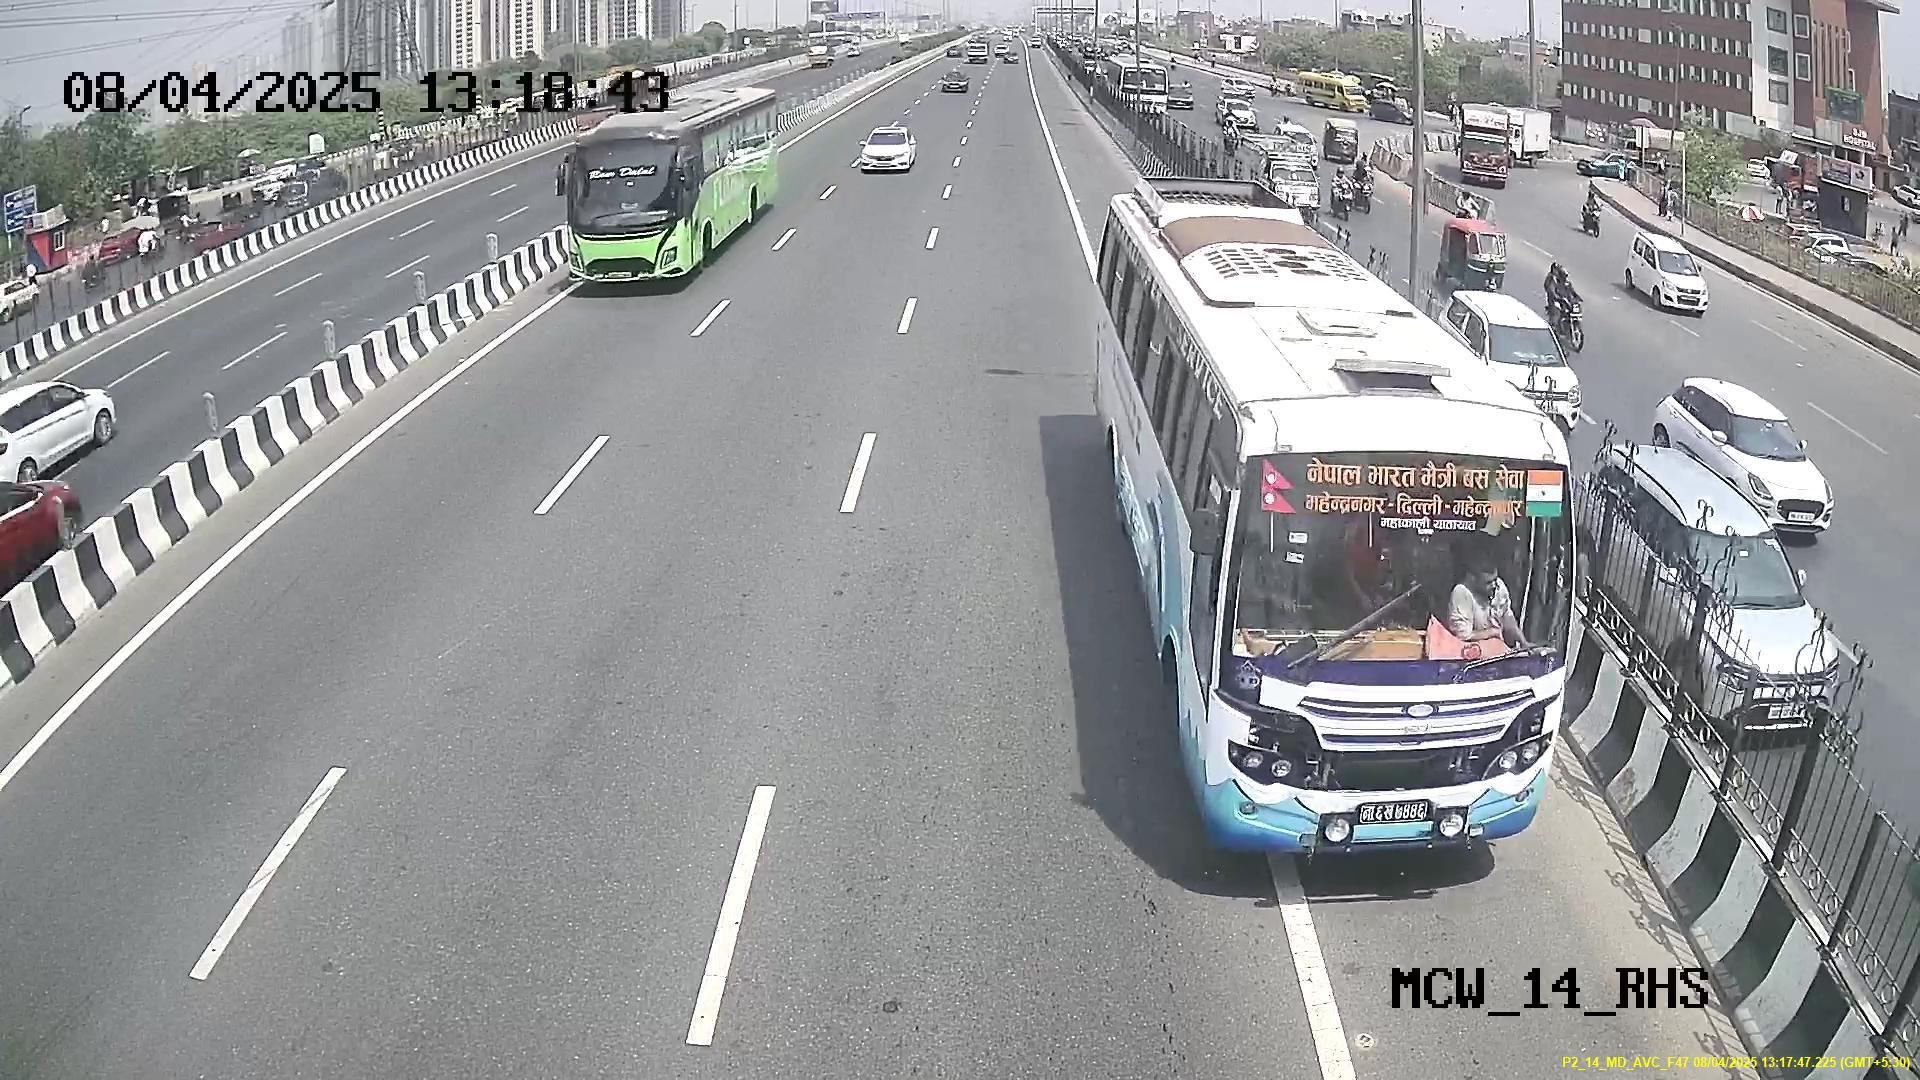bus: (1183, 382, 1577, 872), (560, 117, 724, 287)
